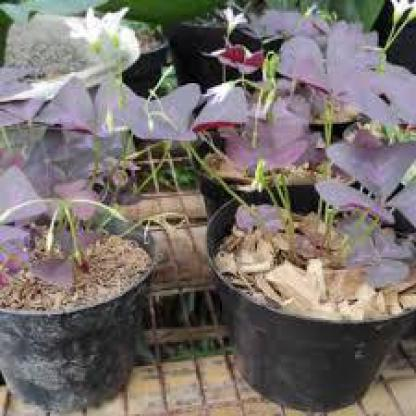Kupu-Kupu: (12, 86, 188, 142), (266, 20, 375, 110), (336, 136, 415, 256), (225, 117, 301, 173)
